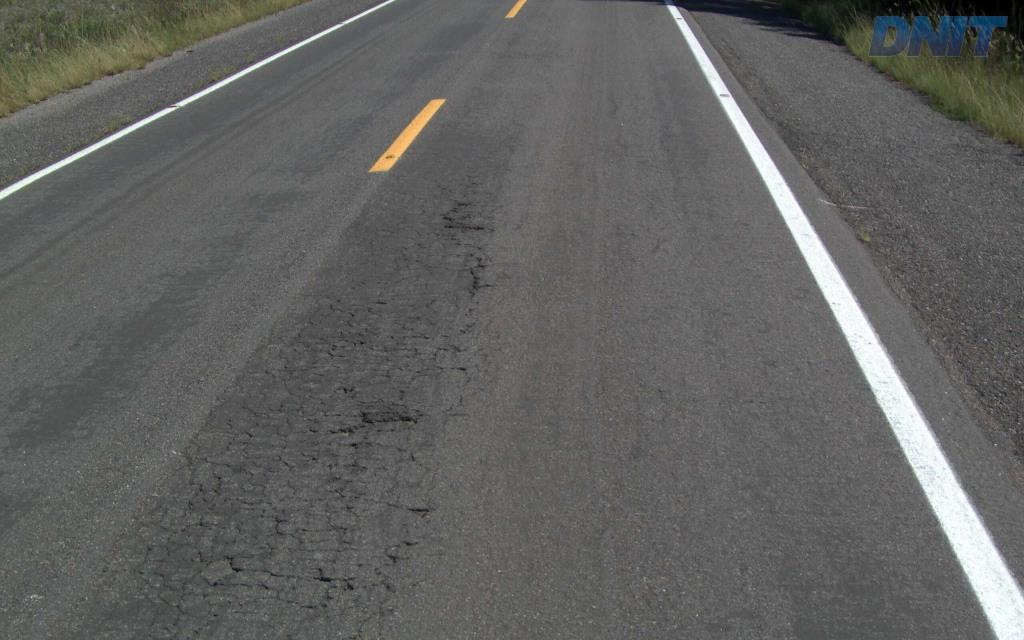crack: (326, 404, 423, 436)
